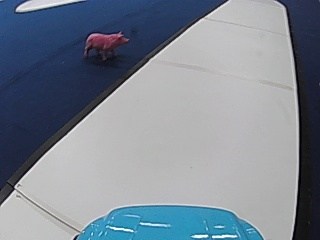pig: (82, 27, 128, 60)
